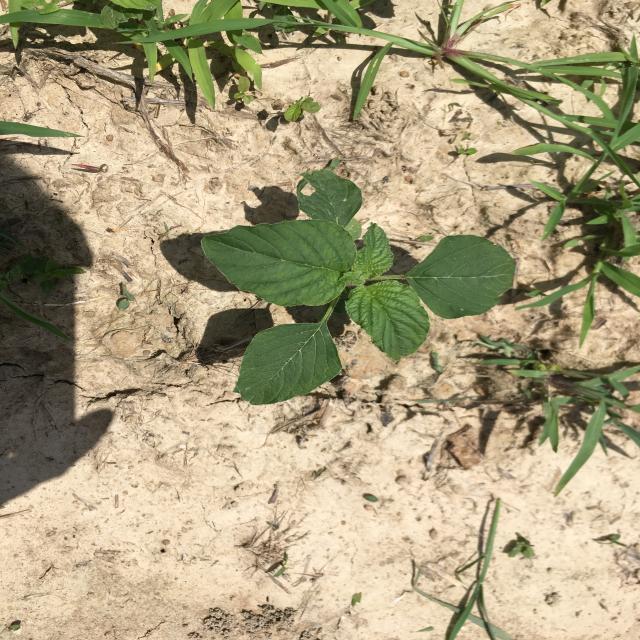PalmerAmaranth: (200, 170, 517, 406)
